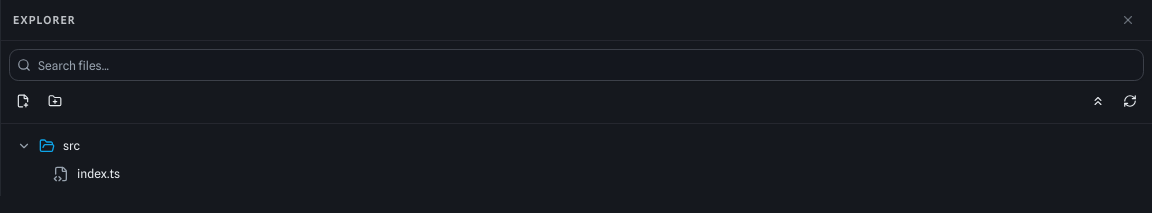
explorer expand-on-tap › FLAT: collapses an expanded folder synchronously on tap
What coordinates should you click on to do the following:
click the button "src"
I would click on:
 (24, 146)
Its box is left=9, top=132, right=1144, bottom=160.
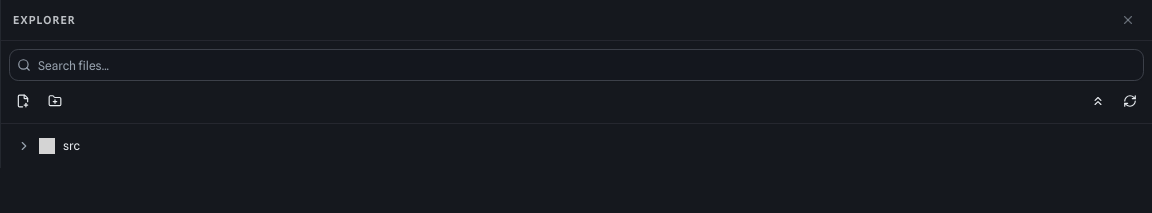
Expected: the text "index.ts" is gone
